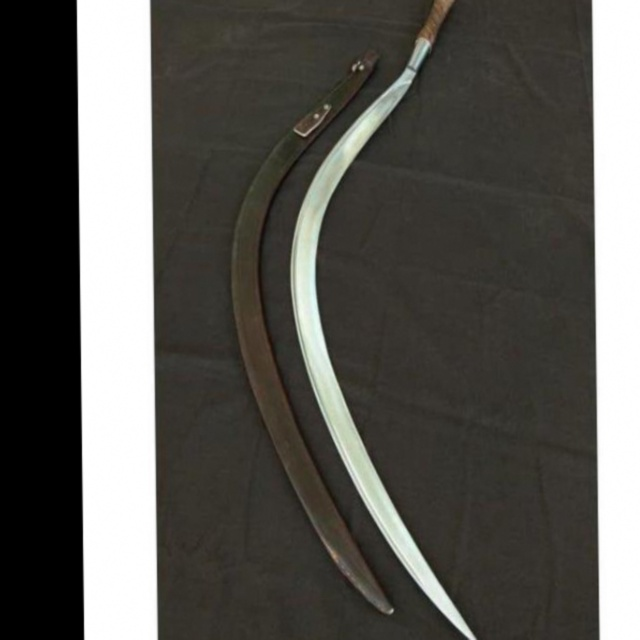Sharp-Object: (285, 0, 499, 640)
